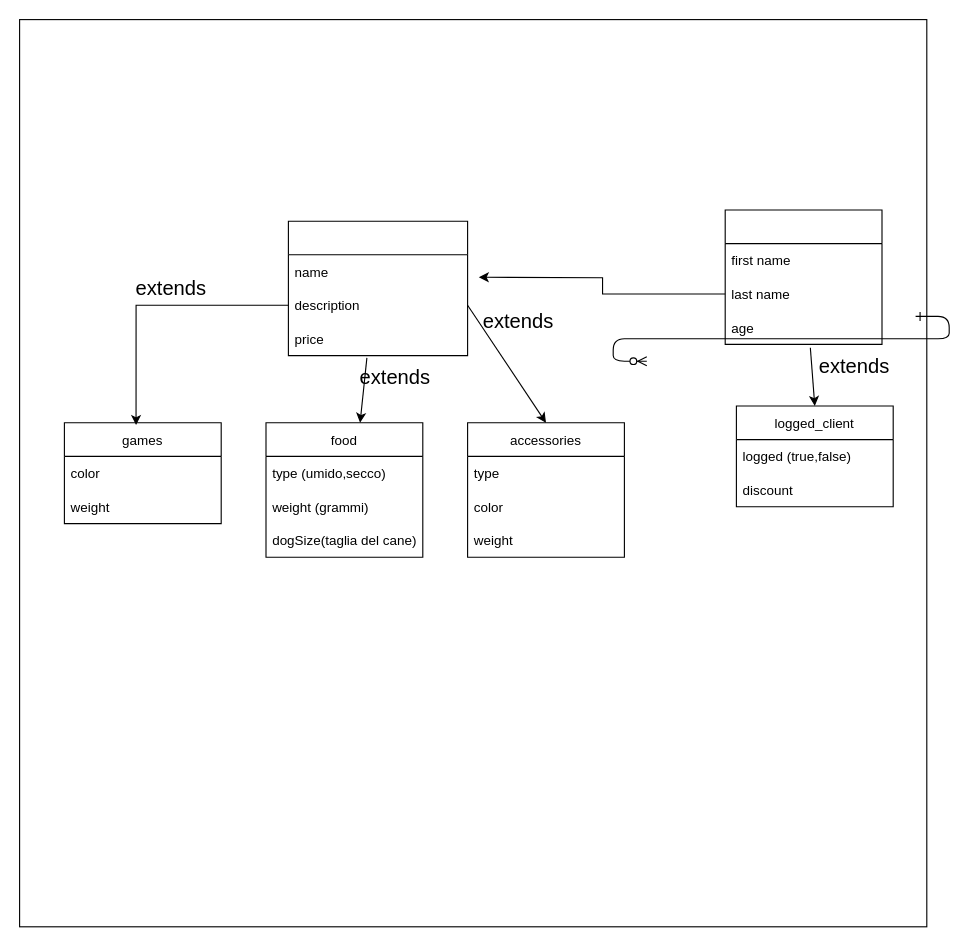
This 979x946 diagram has some shape labels left out. Each missing label, with the box of its shape:
client: (724, 209, 882, 344)
products: (287, 220, 468, 356)
